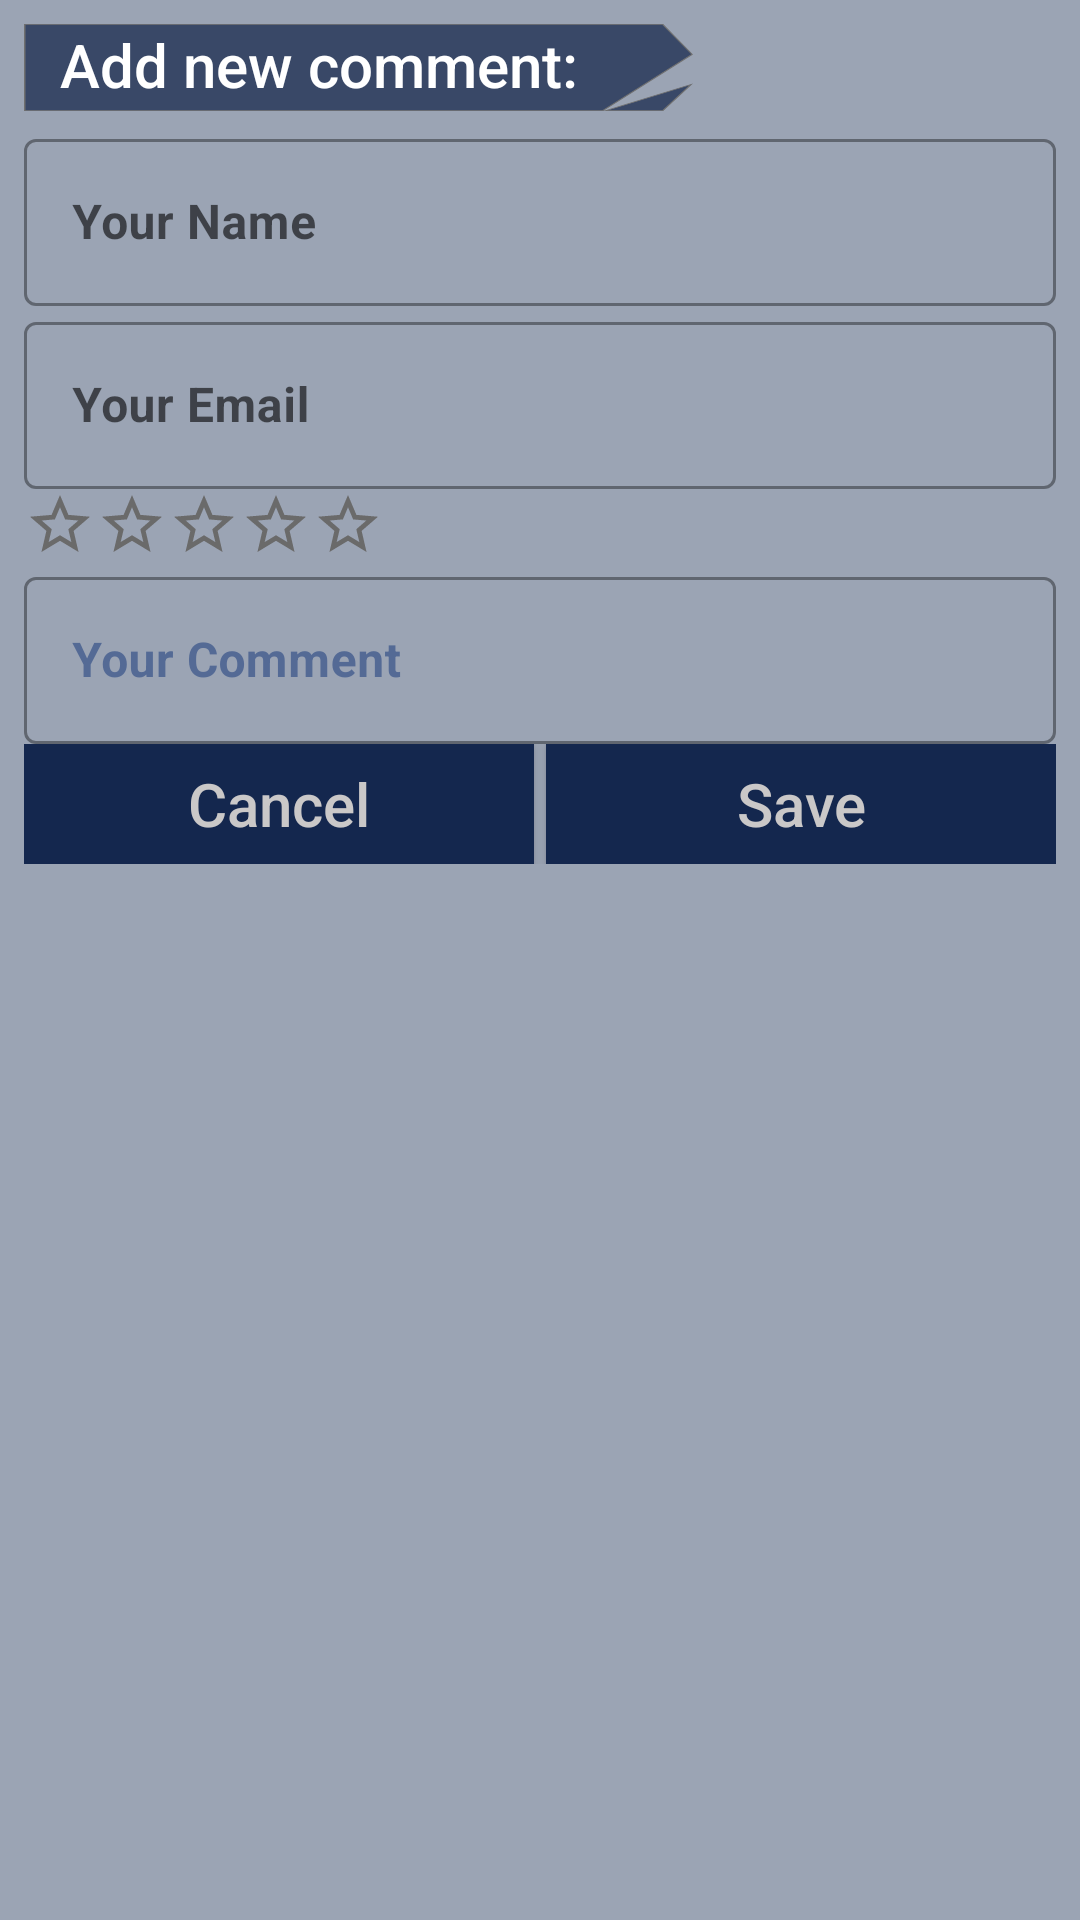

Icons on this 1080px×1920px Android screen, each with the point to tap as point (x, y):
star border: point (60, 524), point (132, 524), point (204, 524), point (276, 524), point (348, 524)
